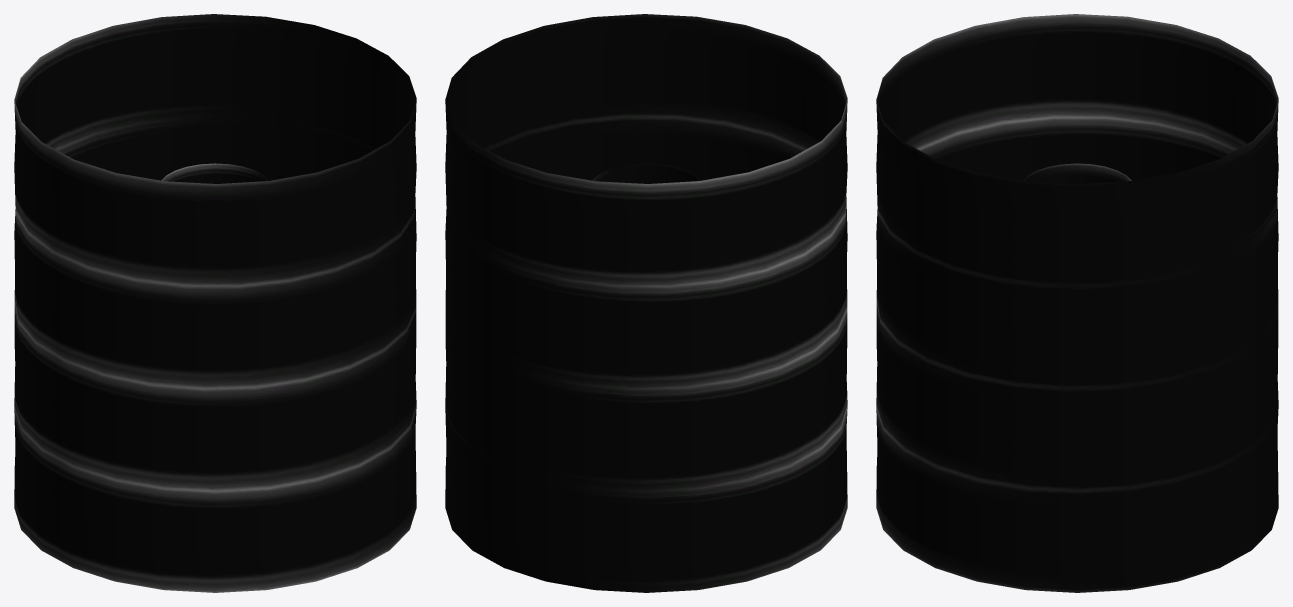
The model's file is YuanzhuRotate.FBX.
3 views of the same model, side by side, from view 1: azimuth 30°, elevation 25°; view 2: azimuth 150°, elevation 25°; view 3: azimuth 270°, elevation 25° (orthographic).
Parts seen in each view (by area): view 1: yuanzhuRoata001, yuanzhuRoata002; view 2: yuanzhuRoata001, yuanzhuRoata002; view 3: yuanzhuRoata001, yuanzhuRoata002.
Boxes of the visible parts, x1=… form: yuanzhuRoata001: x1=14, y1=14, x2=416, y2=592; yuanzhuRoata002: x1=161, y1=163, x2=269, y2=183; yuanzhuRoata001: x1=445, y1=14, x2=847, y2=592; yuanzhuRoata002: x1=592, y1=163, x2=700, y2=183; yuanzhuRoata001: x1=876, y1=14, x2=1278, y2=592; yuanzhuRoata002: x1=1023, y1=163, x2=1131, y2=183.
Bounding box in the file's own units: 1281 × 1437 × 1281.
